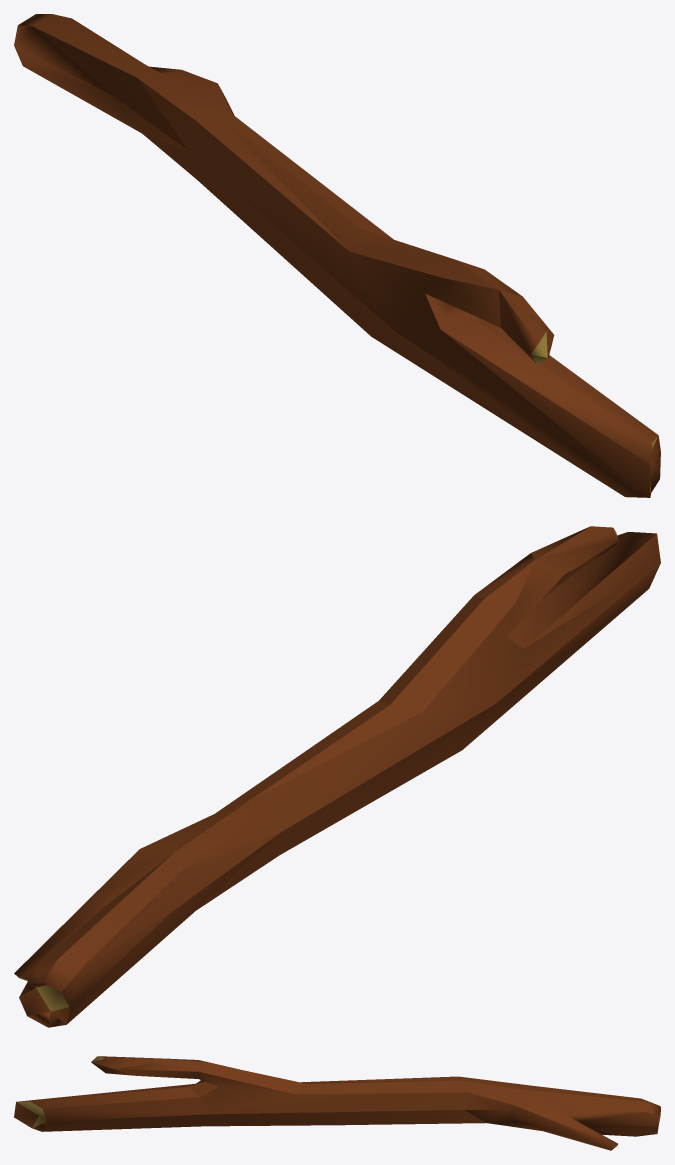
File: Log1.fbx
3 views of the same model, one above another, from view 1: azimuth 30°, elevation 25°; view 2: azimuth 150°, elevation 25°; view 3: azimuth 270°, elevation 25° (orthographic). The views are drawn at different scales.
Parts seen in each view (by area): view 1: Log_1; view 2: Log_1; view 3: Log_1.
Boxes of the visible parts, x1,y1,x2,y2 form: Log_1: (14, 14, 660, 497); Log_1: (14, 526, 660, 1027); Log_1: (14, 1056, 660, 1150).
Bounding box in the file's own units: 52.84 × 54.66 × 457.
